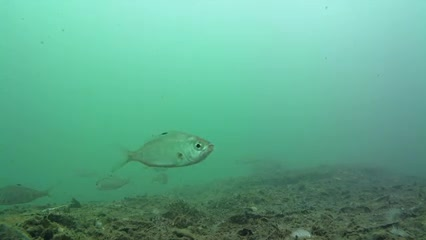smallfish: (108, 126, 214, 173)
